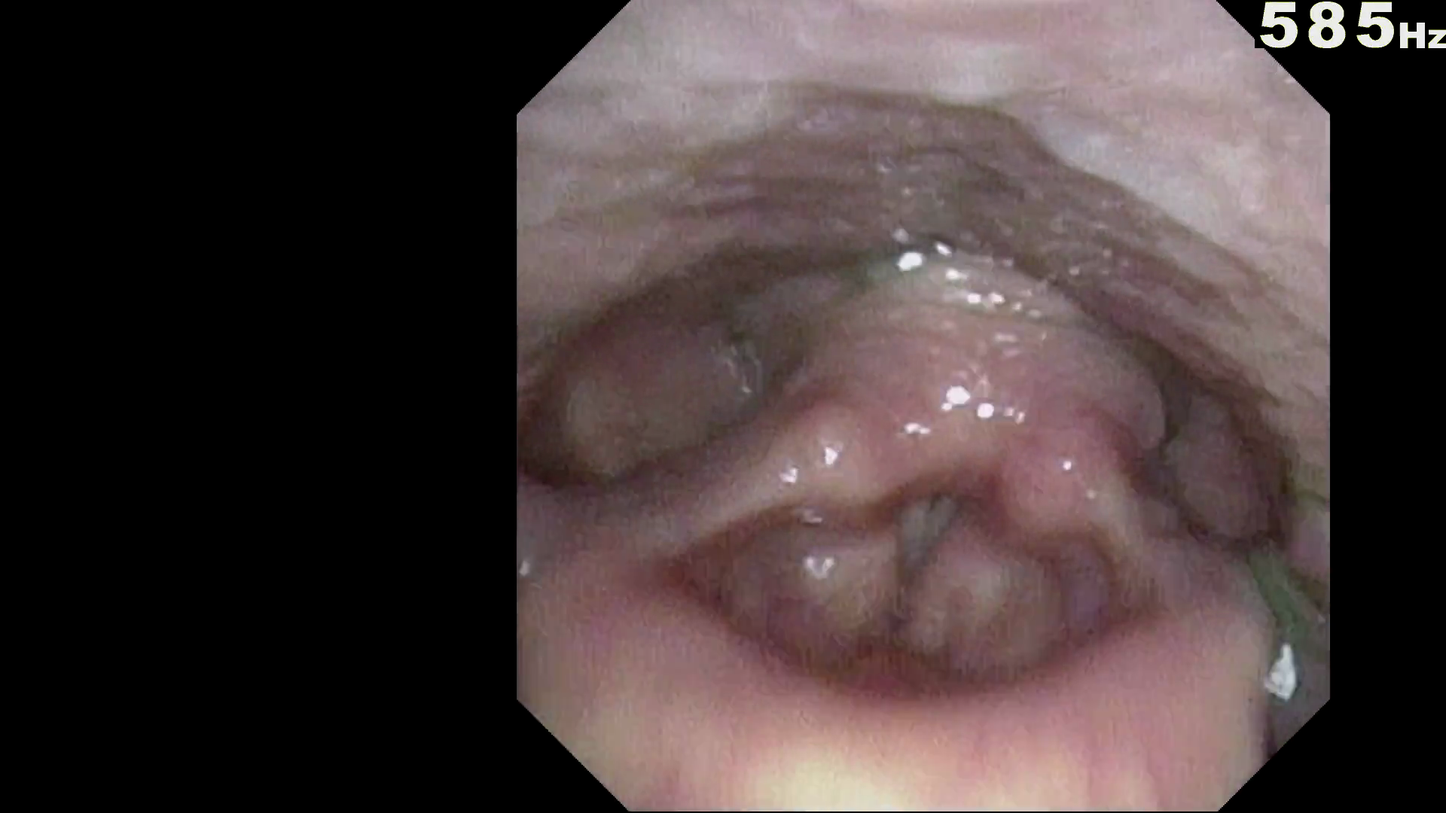epiglottis: (617, 514, 1243, 789)
trachea: (851, 477, 966, 605)
